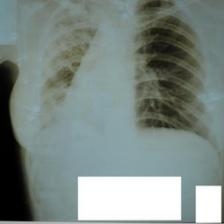tuberculosis: (27, 0, 223, 159)
